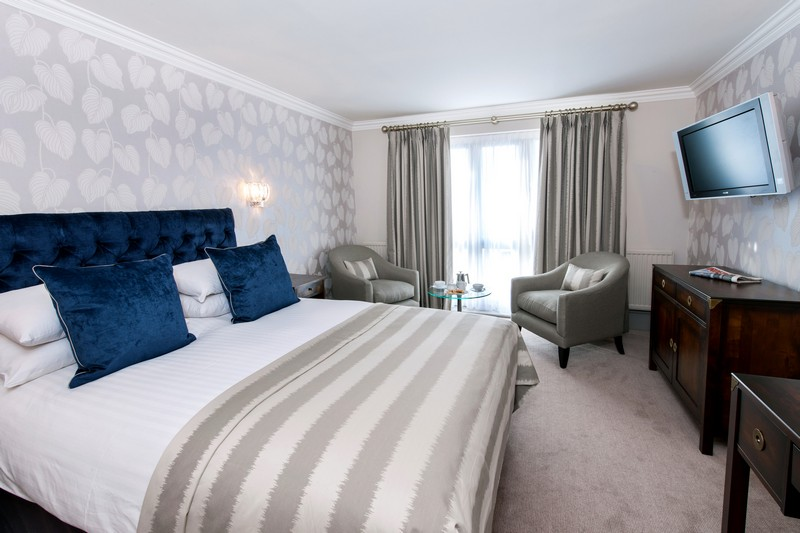bed: (1, 208, 529, 530)
lamp: (235, 171, 275, 214)
sofa: (512, 247, 632, 369), (324, 239, 422, 316)
stool: (427, 276, 492, 319)
table: (650, 253, 800, 451), (725, 370, 798, 531)
